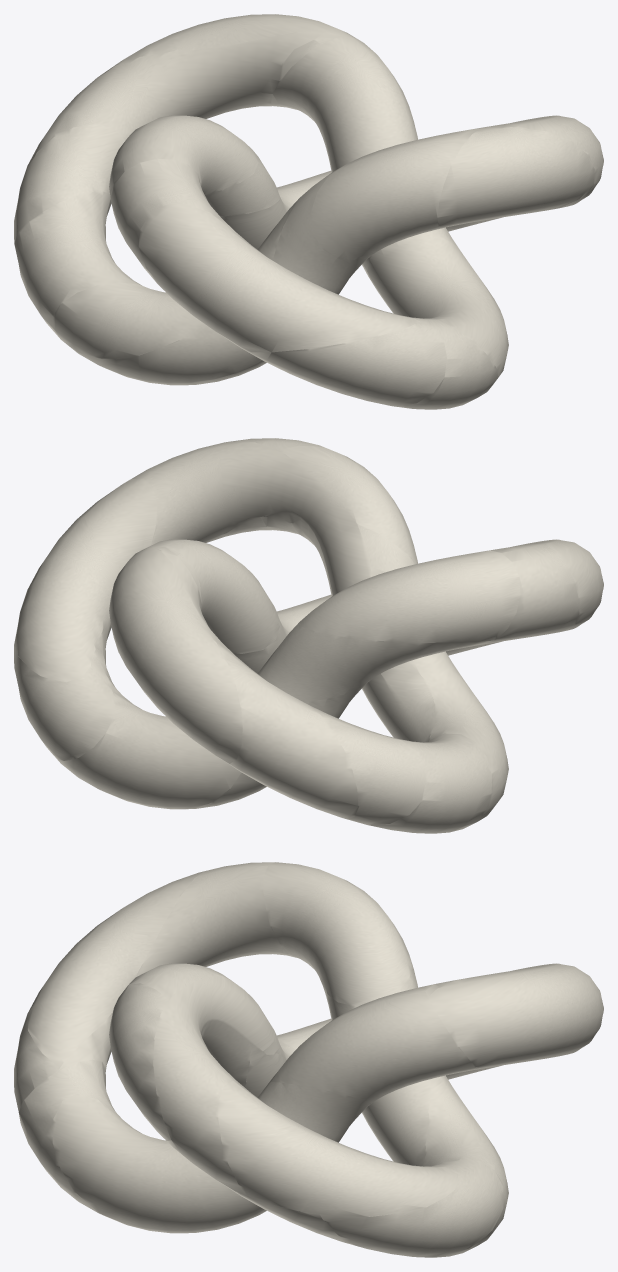
Rendered from fragments.glb.
The picture shows the model from 3 angles, top to bottom: view 1: azimuth 30°, elevation 25°; view 2: azimuth 150°, elevation 25°; view 3: azimuth 270°, elevation 25°; orthographic projection.
Parts seen in each view (by area): view 1: fragment-016-ivory, fragment-023-ivory, fragment-024-ivory, fragment-025-ivory, fragment-011-ivory, fragment-009-ivory, fragment-015-ivory, fragment-001-ivory, fragment-014-ivory, fragment-020-ivory, fragment-021-ivory, fragment-026-ivory (+9 smaller); view 2: fragment-017-ivory, fragment-004-ivory, fragment-018-ivory, fragment-020-ivory, fragment-023-ivory, fragment-012-ivory, fragment-019-ivory, fragment-013-ivory, fragment-011-ivory, fragment-001-ivory, fragment-021-ivory, fragment-024-ivory (+10 smaller); view 3: fragment-018-ivory, fragment-009-ivory, fragment-020-ivory, fragment-004-ivory, fragment-011-ivory, fragment-017-ivory, fragment-016-ivory, fragment-005-ivory, fragment-013-ivory, fragment-025-ivory, fragment-003-ivory, fragment-008-ivory (+8 smaller).
Part boxes in pixels (box(x1,y1,x2,y2)): fragment-016-ivory: box(139, 204, 418, 352); fragment-023-ivory: box(26, 32, 342, 169); fragment-024-ivory: box(311, 129, 479, 259); fragment-025-ivory: box(437, 127, 594, 227); fragment-011-ivory: box(271, 35, 417, 172); fragment-009-ivory: box(367, 234, 508, 376); fragment-015-ivory: box(245, 321, 447, 406); fragment-001-ivory: box(14, 191, 141, 335); fragment-014-ivory: box(52, 199, 298, 358); fragment-020-ivory: box(109, 115, 258, 195); fragment-021-ivory: box(14, 124, 124, 243); fragment-026-ivory: box(71, 324, 261, 383); fragment-017-ivory: box(132, 441, 371, 595); fragment-004-ivory: box(109, 547, 242, 763); fragment-018-ivory: box(15, 478, 157, 682); fragment-020-ivory: box(298, 550, 520, 642); fragment-023-ivory: box(155, 547, 358, 819); fragment-012-ivory: box(53, 650, 241, 809); fragment-019-ivory: box(257, 623, 493, 702); fragment-013-ivory: box(14, 629, 115, 760); fragment-011-ivory: box(133, 539, 280, 653); fragment-001-ivory: box(369, 733, 491, 833); fragment-021-ivory: box(310, 705, 427, 825); fragment-024-ivory: box(265, 445, 417, 564); fragment-018-ivory: box(218, 1081, 458, 1216); fragment-009-ivory: box(52, 1094, 266, 1233); fragment-020-ivory: box(263, 862, 411, 1005); fragment-004-ivory: box(428, 964, 603, 1068); fragment-011-ivory: box(269, 986, 480, 1103); fragment-017-ivory: box(153, 976, 274, 1195); fragment-016-ivory: box(27, 871, 203, 1067); fragment-005-ivory: box(57, 862, 288, 1071); fragment-013-ivory: box(319, 1159, 503, 1257); fragment-025-ivory: box(109, 983, 171, 1140); fragment-003-ivory: box(220, 1079, 431, 1245); fragment-008-ivory: box(18, 1059, 128, 1225).
Bounding box in the file's own units: 0.1533 × 0.0728 × 0.16.
2 materials, 2 textured.
